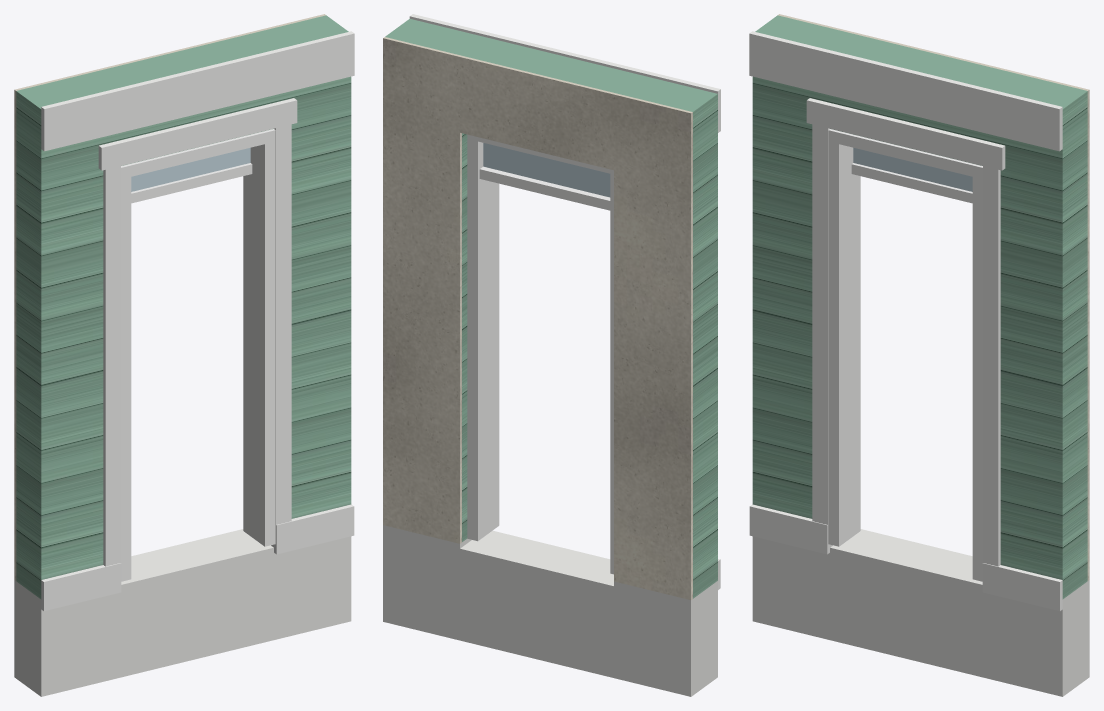
The model's file is wall_c_door.glb.
The picture shows the model from 3 angles, left to right: view 1: azimuth 30°, elevation 25°; view 2: azimuth 150°, elevation 25°; view 3: azimuth 330°, elevation 25°; orthographic projection.
Visible parts, largest first — view 1: wall_c_door_siding_c, wall_c_door_trim, wall_c_door_lattice, wall_c_door_frame, wall_c_door_plaster, wall_c_door_glass; view 2: wall_c_door_plaster, wall_c_door_lattice, wall_c_door_siding_c, wall_c_door_frame, wall_c_door_glass, wall_c_door_trim; view 3: wall_c_door_siding_c, wall_c_door_trim, wall_c_door_lattice, wall_c_door_frame, wall_c_door_plaster, wall_c_door_glass.
Boxes of the visible parts, x1,y1,x2,y2 form: wall_c_door_siding_c: [16, 15, 351, 599]; wall_c_door_trim: [41, 31, 354, 611]; wall_c_door_lattice: [14, 529, 351, 696]; wall_c_door_frame: [121, 129, 275, 581]; wall_c_door_plaster: [14, 14, 325, 580]; wall_c_door_glass: [131, 147, 250, 191]; wall_c_door_plaster: [383, 37, 692, 599]; wall_c_door_lattice: [383, 525, 717, 696]; wall_c_door_siding_c: [385, 19, 717, 598]; wall_c_door_frame: [467, 134, 613, 574]; wall_c_door_glass: [483, 143, 610, 197]; wall_c_door_trim: [409, 14, 720, 589]; wall_c_door_siding_c: [752, 15, 1087, 599]; wall_c_door_trim: [749, 31, 1062, 611]; wall_c_door_lattice: [752, 529, 1089, 696]; wall_c_door_frame: [828, 129, 982, 581]; wall_c_door_plaster: [778, 14, 1089, 580]; wall_c_door_glass: [853, 147, 972, 191].
Bounding box in the file's own units: 2 × 3.63 × 0.335.
Materials: 6 (2 with a texture image).
